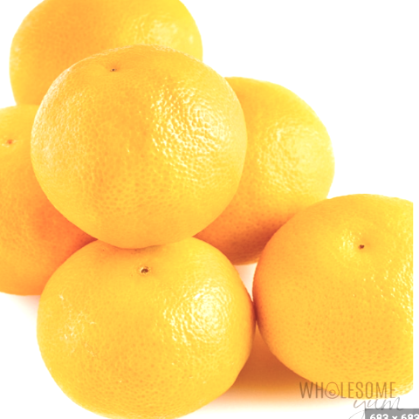orange: (25, 229, 289, 414), (22, 46, 262, 249), (249, 161, 419, 399)
